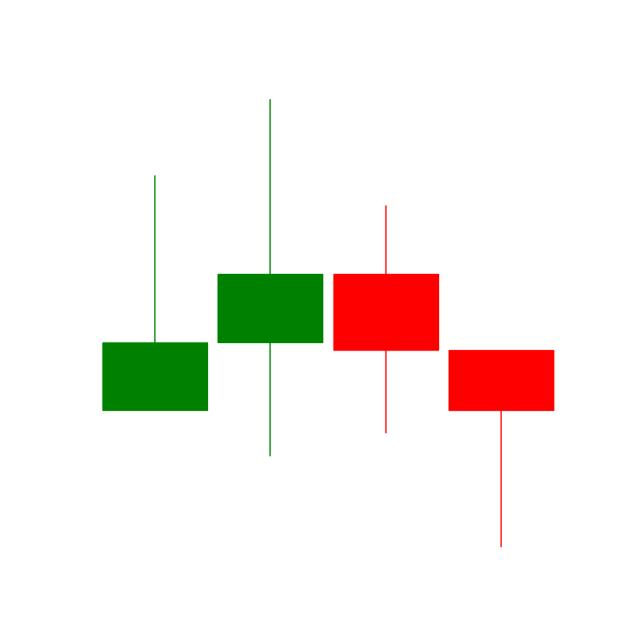Hanging Man: (443, 346, 559, 549)
Inverted Hammer: (95, 165, 212, 417)
